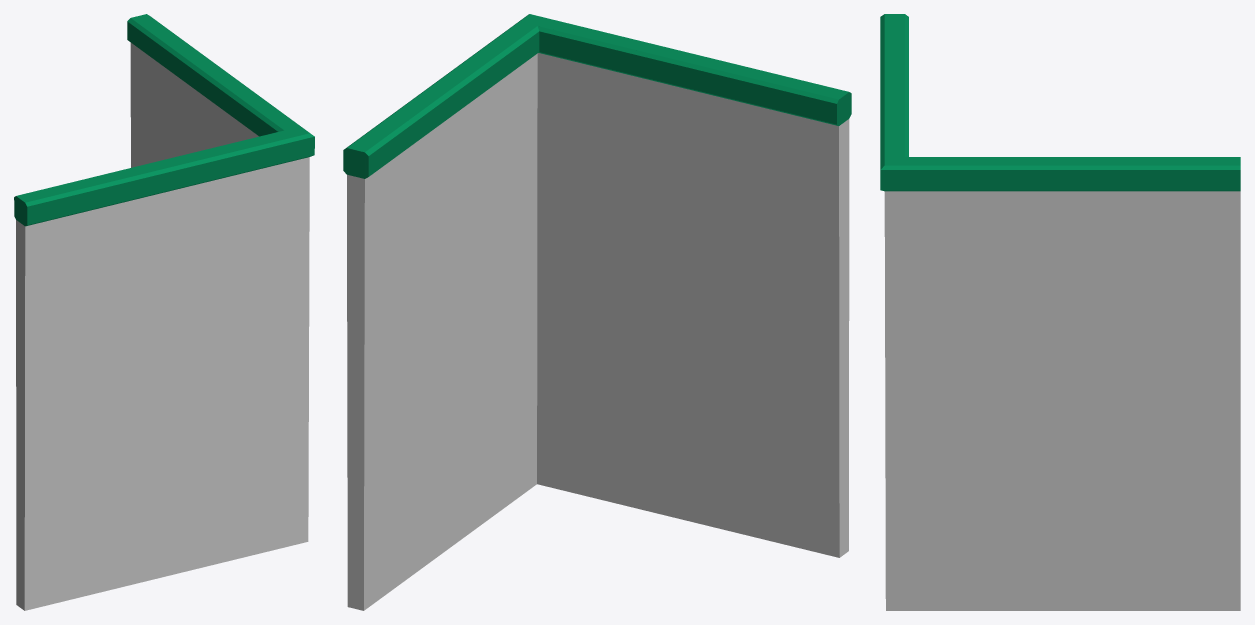
File: wall_9.fbx
3 views of the same model, side by side, from view 1: azimuth 30°, elevation 25°; view 2: azimuth 150°, elevation 25°; view 3: azimuth 270°, elevation 25° (orthographic). The views are drawn at different scales.
Visible parts, largest first — view 1: WALL_2.003; view 2: WALL_2.003; view 3: WALL_2.003.
Boxes of the visible parts, x1=… form: WALL_2.003: x1=14, y1=14, x2=314, y2=610; WALL_2.003: x1=343, y1=14, x2=851, y2=610; WALL_2.003: x1=880, y1=14, x2=1240, y2=610.
Bounding box in the file's own units: 3.55 × 4.83 × 3.53.
